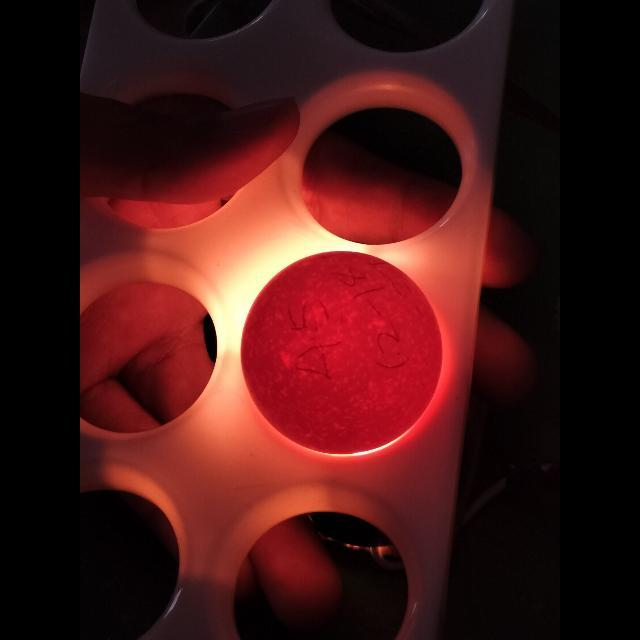Infertile: (248, 248, 442, 447)
